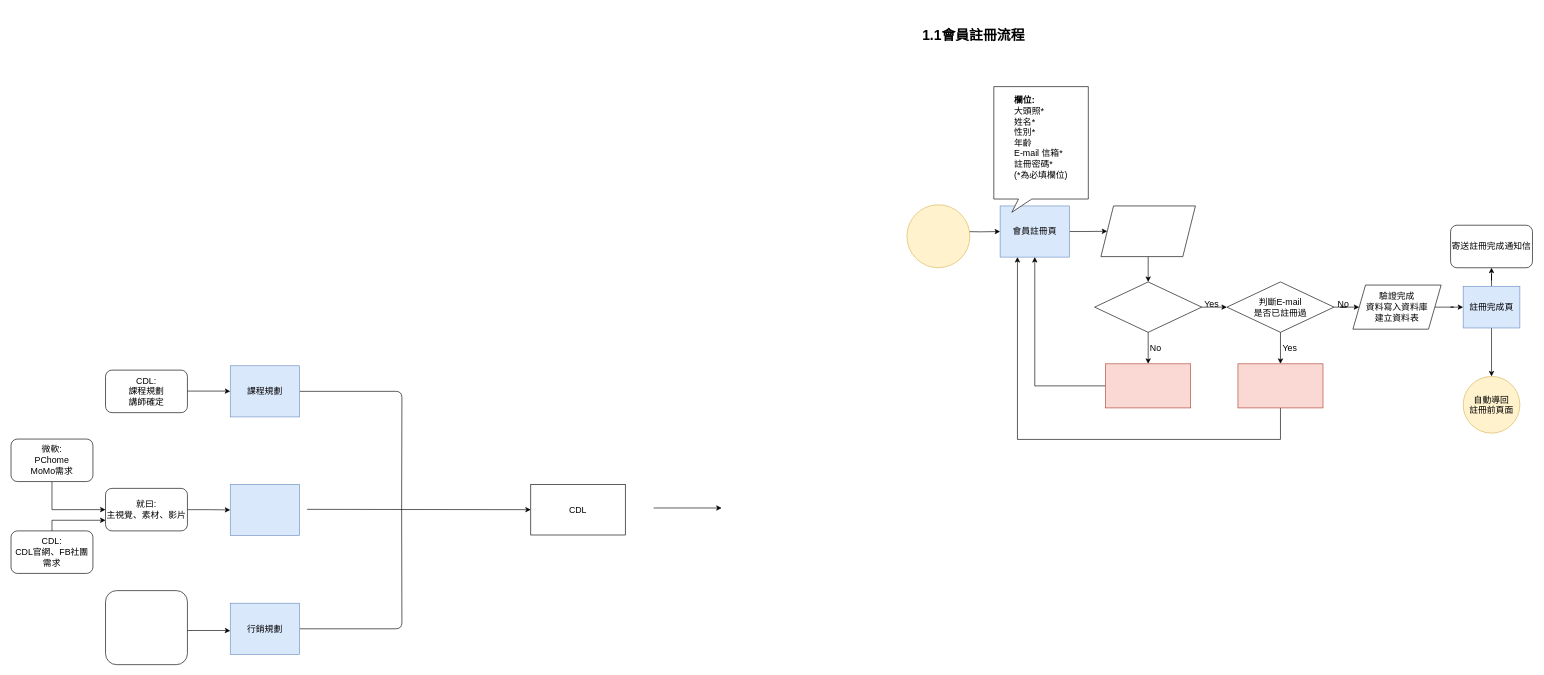
Some shapes in this 1544 by 675 pixel diagram are drawn without their labels. The shapes that lost their labels are listed below. From the top down, each one's centre as x and y in pixels, then its label:
At (x=938, y=236): "1.1 會員註冊".
At (x=1147, y=231): "傳入填寫資訊 並進行驗證".
At (x=1148, y=306): "判斷必填資訊 是否填寫完整".
At (x=1148, y=385): "錯誤通知 必須填寫完整的 註冊資訊".
At (x=1280, y=385): "錯誤通知 此E-mail 已經註冊過了".
At (x=265, y=510): "上架 線上銷售平台".
At (x=146, y=627): "CDL: 專屬社團經營 社團封面上架 EDM 校園宣傳".
